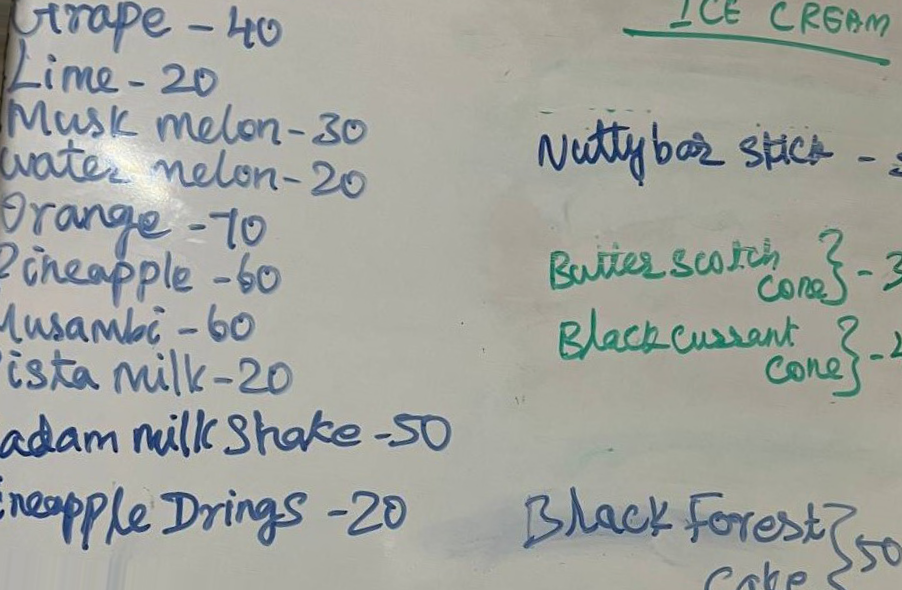badam milkshake - 50: (1, 406, 456, 462)
black current cone - 40: (552, 304, 902, 402)
black forest cake - 50: (521, 477, 898, 590)
butterscotch cone - 35: (537, 226, 902, 310)
grape - 40: (1, 2, 295, 51)
lime - 20: (4, 38, 221, 101)
musambi - 60: (1, 296, 273, 347)
musk melon - 30: (2, 95, 374, 144)
nutty bar - 30: (529, 108, 902, 187)
orange - 70: (1, 186, 274, 253)
pineapple - 60: (1, 241, 288, 306)
pineapple drink - 20: (1, 474, 412, 544)
pista milk - 20: (1, 344, 296, 399)
water melon - 20: (1, 138, 377, 199)
